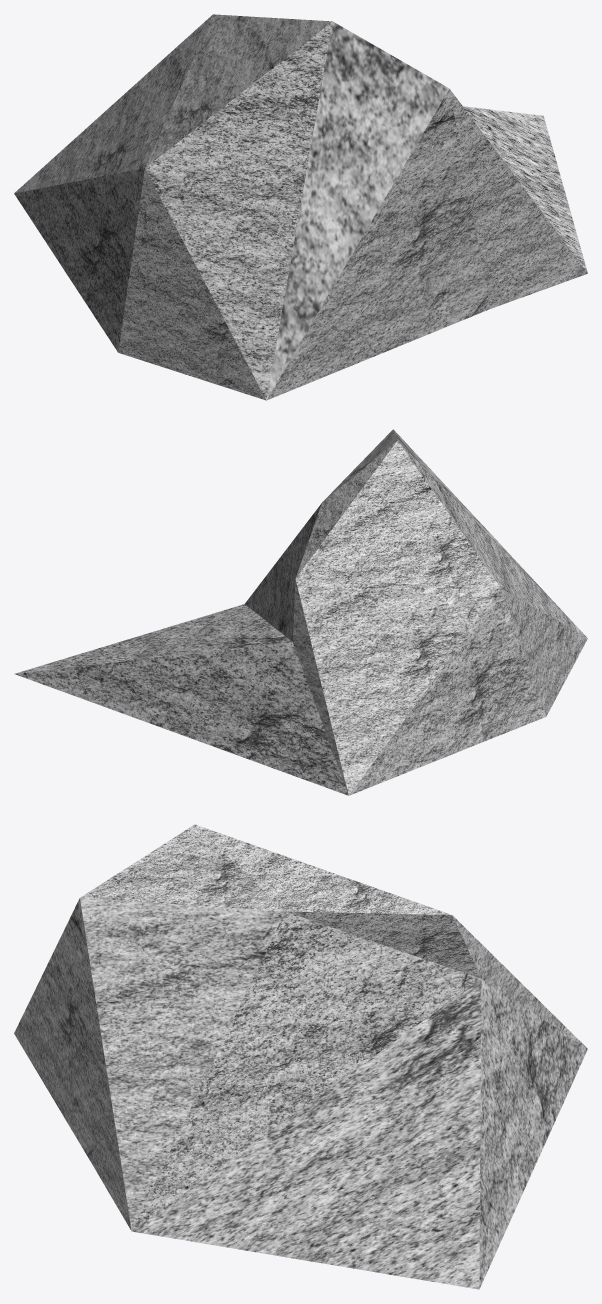
File: rock6.fbx
The picture shows the model from 3 angles, top to bottom: view 1: azimuth 30°, elevation 25°; view 2: azimuth 150°, elevation 25°; view 3: azimuth 270°, elevation 25°; orthographic projection. The views are drawn at different scales.
Visible parts, largest first — view 1: GeoSphere004; view 2: GeoSphere004; view 3: GeoSphere004.
Boxes of the visible parts, x1,y1,x2,y2 form: GeoSphere004: [14, 14, 587, 400]; GeoSphere004: [14, 429, 587, 795]; GeoSphere004: [14, 824, 587, 1289].
Bounding box in the file's own units: 79.9 × 40.48 × 69.89.
1 material, 1 textured.
